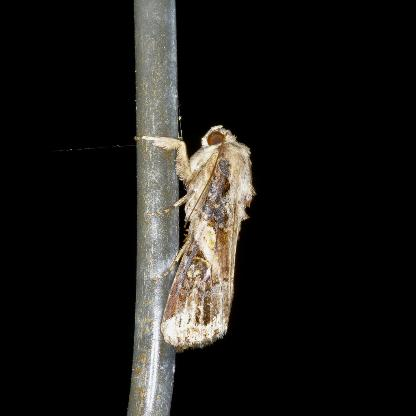Fall Armyworm Moth: (132, 100, 260, 356)
